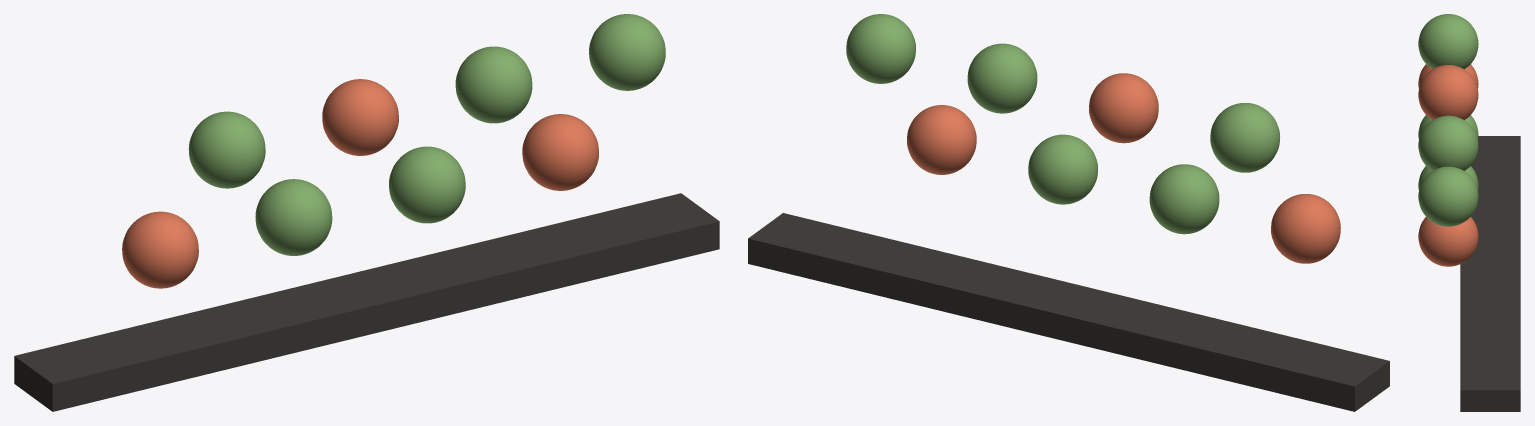
Rendered from biology-evolution-variation.glb.
3 renders of one model, left to right at view 1: azimuth 30°, elevation 25°; view 2: azimuth 150°, elevation 25°; view 3: azimuth 270°, elevation 25°, orthographic. The views are drawn at different scales.
Visible parts, largest first — view 1: generation-ground, population-trait-5, population-trait-1, population-trait-0, population-trait-4, population-trait-2, population-trait-3, population-trait-7, population-trait-6; view 2: generation-ground, population-trait-2, population-trait-4, population-trait-5, population-trait-3, population-trait-7, population-trait-1, population-trait-0, population-trait-6; view 3: generation-ground, population-trait-7, population-trait-1, population-trait-5, population-trait-3, population-trait-6, population-trait-2, population-trait-0, population-trait-4.
Part boxes in pixels (x1,y1,x2,y2): generation-ground: [14, 193, 719, 411]; population-trait-5: [455, 46, 532, 123]; population-trait-1: [188, 111, 265, 188]; population-trait-0: [122, 211, 198, 288]; population-trait-4: [389, 146, 465, 223]; population-trait-2: [255, 179, 332, 255]; population-trait-3: [322, 79, 398, 155]; population-trait-7: [589, 14, 665, 90]; population-trait-6: [522, 114, 598, 190]; generation-ground: [748, 213, 1389, 411]; population-trait-2: [1149, 164, 1219, 234]; population-trait-4: [1028, 134, 1097, 204]; population-trait-5: [967, 43, 1037, 113]; population-trait-3: [1089, 73, 1158, 143]; population-trait-7: [846, 14, 915, 83]; population-trait-1: [1210, 103, 1279, 172]; population-trait-0: [1271, 194, 1340, 263]; population-trait-6: [907, 105, 976, 174]; generation-ground: [1460, 136, 1520, 411]; population-trait-7: [1418, 166, 1478, 226]; population-trait-1: [1418, 14, 1478, 69]; population-trait-5: [1418, 115, 1478, 170]; population-trait-3: [1418, 65, 1478, 120]; population-trait-6: [1418, 217, 1478, 266]; population-trait-2: [1418, 115, 1478, 139]; population-trait-0: [1418, 64, 1478, 88]; population-trait-4: [1418, 166, 1478, 190].
Size of what is drawn, in the model's own units: 2 by 0.75 by 0.34.
